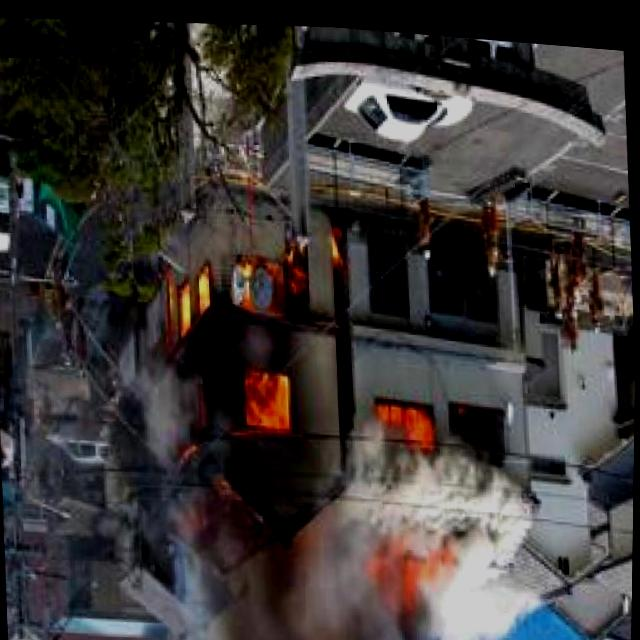Fire: (158, 226, 317, 468), (354, 525, 454, 620), (369, 386, 438, 440)
Smoke: (216, 445, 539, 640)
